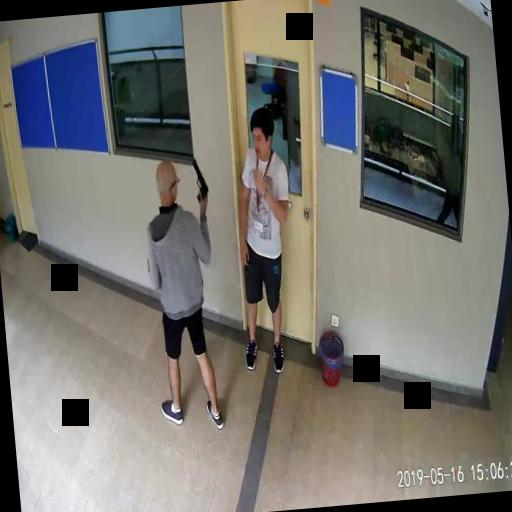Handgun: (191, 156, 208, 202)
